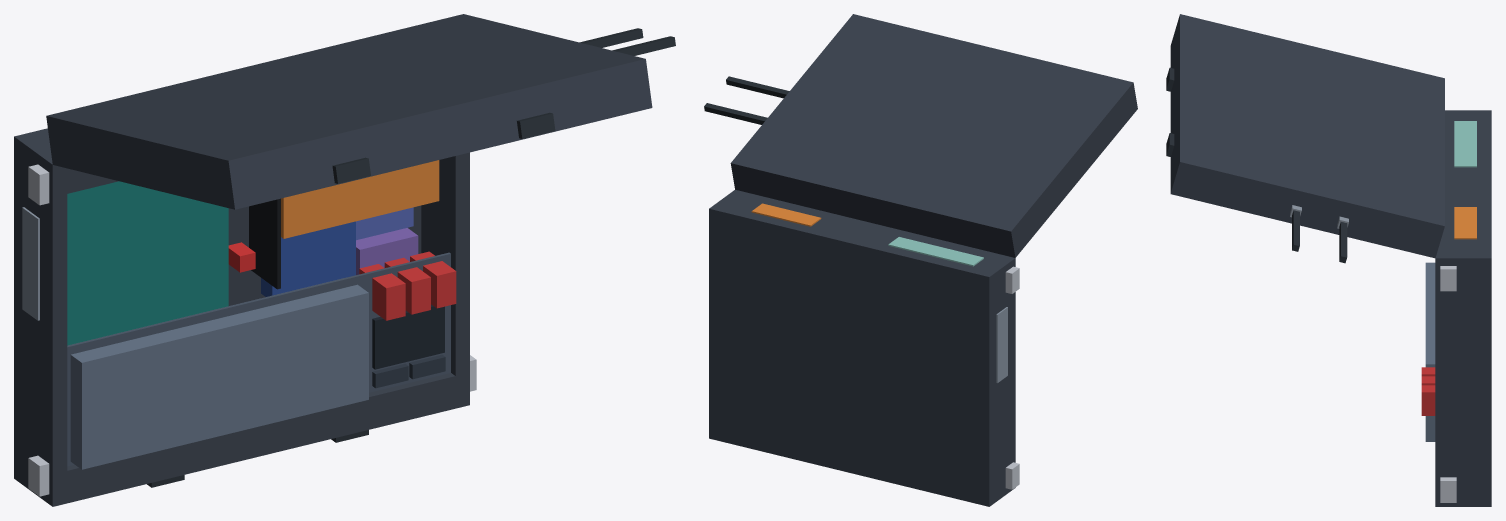
The model's file is assembly-open.obj.
3 views of the same model, side by side, from view 1: azimuth 30°, elevation 25°; view 2: azimuth 150°, elevation 25°; view 3: azimuth 270°, elevation 25° (orthographic). The views are drawn at different scales.
Parts seen in each view (by area): view 1: shell_lid_0, kb, board, shell_lid_4, shell_base_1, shell_base_4, shell_lid_1, batt, shell_base_2, plate, alfa, shell_base_0 (+13 smaller); view 2: shell_base_0, shell_lid_0, shell_lid_3, shell_base_1, shell_base_3, shell_lid_1, vent_exhaust, port_panel, vent_membrane, ant_1, ant_2; view 3: shell_lid_0, shell_base_2, shell_lid_2, shell_base_3, shell_base_0, kb, shell_lid_4, vent_exhaust, vent_membrane, t3, clip_br, clip_fr.
Part boxes in pixels (x1=…): shell_lid_0: x1=46, y1=14, x2=646, y2=169; kb: x1=70, y1=284, x2=368, y2=469; board: x1=67, y1=181, x2=228, y2=345; shell_lid_4: x1=244, y1=71, x2=637, y2=205; shell_base_1: x1=18, y1=136, x2=67, y2=506; shell_base_4: x1=67, y1=373, x2=455, y2=503; shell_lid_1: x1=47, y1=124, x2=249, y2=209; batt: x1=281, y1=160, x2=439, y2=238; shell_base_2: x1=421, y1=152, x2=469, y2=408; plate: x1=67, y1=252, x2=450, y2=466; alfa: x1=261, y1=221, x2=355, y2=296; shell_base_0: x1=14, y1=128, x2=421, y2=481; shell_base_0: x1=709, y1=206, x2=992, y2=506; shell_lid_0: x1=730, y1=14, x2=1134, y2=236; shell_lid_3: x1=741, y1=170, x2=1005, y2=255; shell_base_1: x1=983, y1=256, x2=1015, y2=504; shell_base_3: x1=722, y1=192, x2=1005, y2=272; shell_lid_1: x1=1002, y1=87, x2=1137, y2=257; vent_exhaust: x1=888, y1=237, x2=983, y2=266; port_panel: x1=996, y1=307, x2=1007, y2=383; vent_membrane: x1=751, y1=203, x2=821, y2=226; ant_1: x1=704, y1=103, x2=767, y2=124; ant_2: x1=726, y1=76, x2=789, y2=98; shell_lid_0: x1=1178, y1=14, x2=1444, y2=231; shell_base_2: x1=1435, y1=253, x2=1485, y2=506; shell_lid_2: x1=1170, y1=163, x2=1442, y2=258; shell_base_3: x1=1437, y1=115, x2=1485, y2=253; shell_base_0: x1=1485, y1=110, x2=1491, y2=506; kb: x1=1425, y1=262, x2=1435, y2=441; shell_lid_4: x1=1170, y1=26, x2=1178, y2=187; vent_exhaust: x1=1454, y1=121, x2=1476, y2=167; vent_membrane: x1=1454, y1=207, x2=1476, y2=239; t3: x1=1421, y1=385, x2=1435, y2=415; clip_br: x1=1440, y1=266, x2=1456, y2=291; clip_fr: x1=1440, y1=477, x2=1456, y2=502.
Size of the model in its own units: 549 by 472 by 399.
